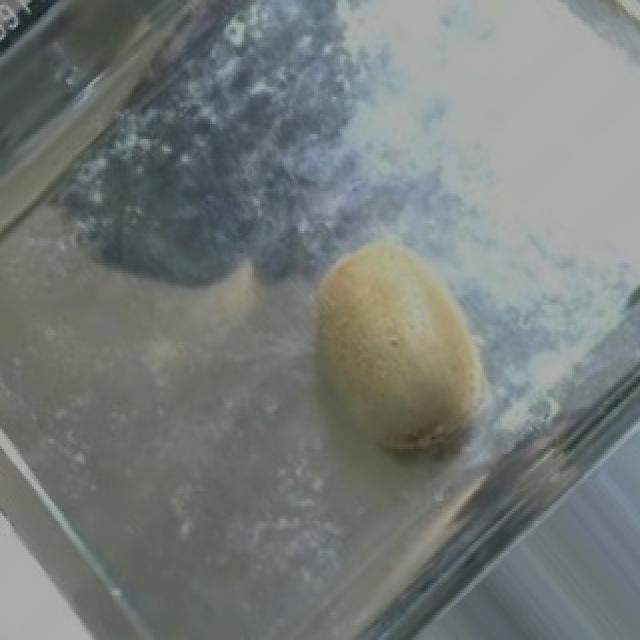Fruit: (278, 208, 518, 486)
